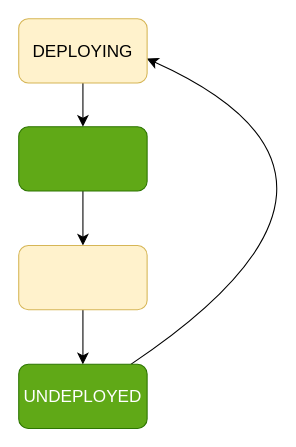
This 296x447 diagram has some shape labels left out. The box of each missing label's shape, as (x1, y1, x2, y2) in pixels:
DEPLOYED: (18, 126, 147, 191)
UNDEPLOYING: (18, 244, 147, 310)
